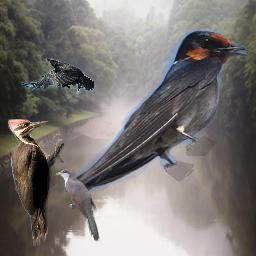Crow: (20, 58, 94, 94)
Cuckoo: (54, 168, 101, 242)
Swallow: (63, 30, 247, 192)
Woodpecker: (8, 119, 64, 246)
